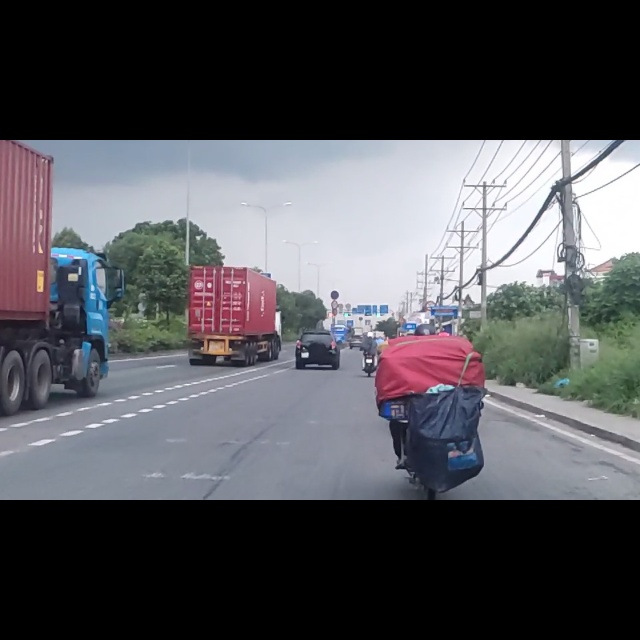bien_cam: (330, 267, 340, 283)
